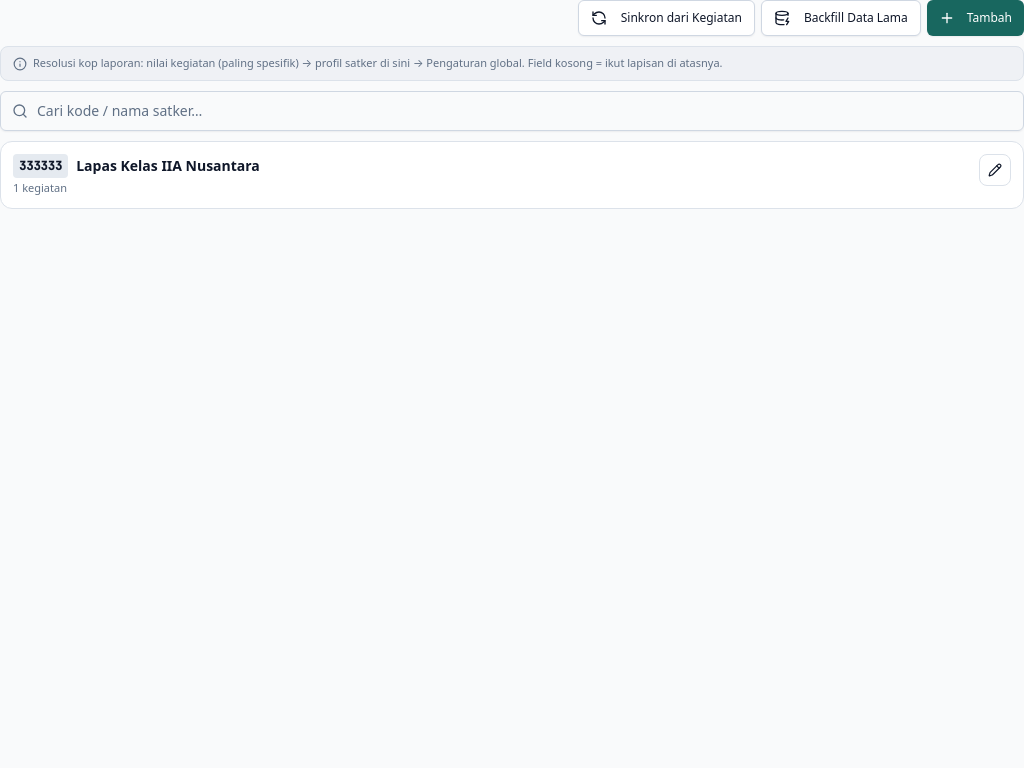
Test: tingkat yang tersimpan TERBACA di dialog profil
The image size is (1024, 768).
Click the button named "Ubah 333333": (995, 170) [979, 154, 1011, 186]
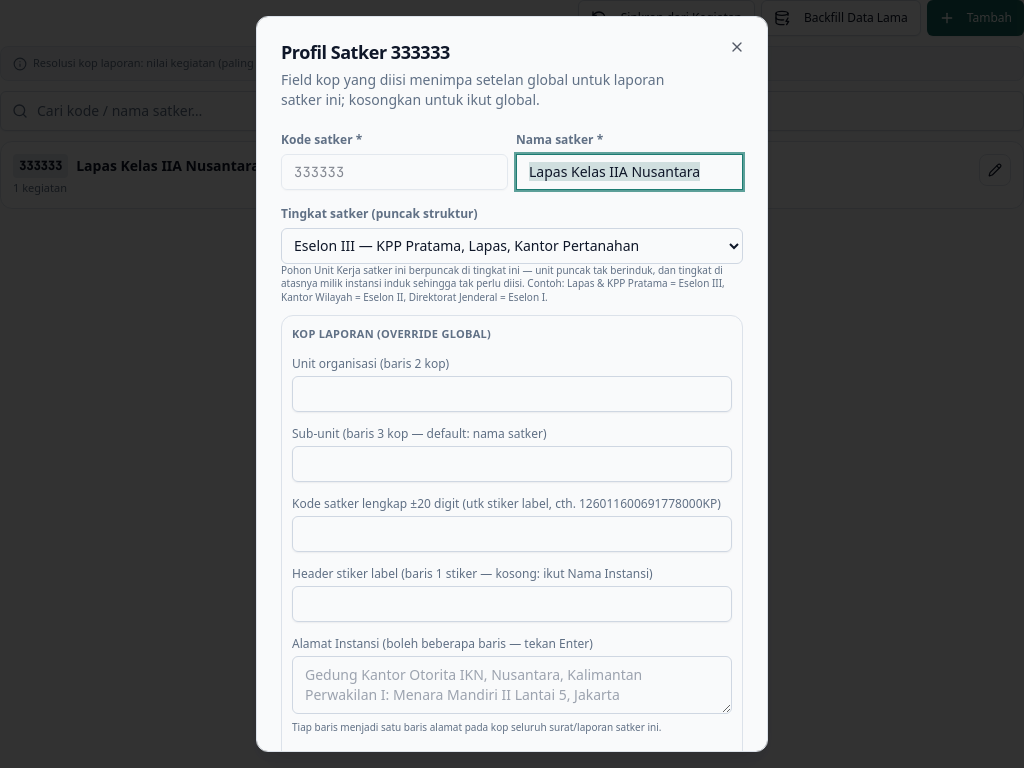
Check: the dropdown with test id "satker-form-eselon_satker" shows "Eselon III — KPP Pratama, Lapas, Kantor Pertanahan", box [281, 228, 743, 264]
